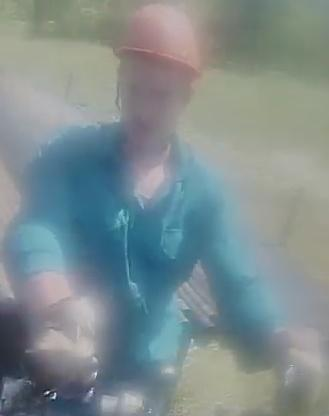gloves: (24, 290, 108, 390), (260, 317, 329, 416)
helmet: (112, 0, 203, 79)
vest: (23, 121, 230, 388)
